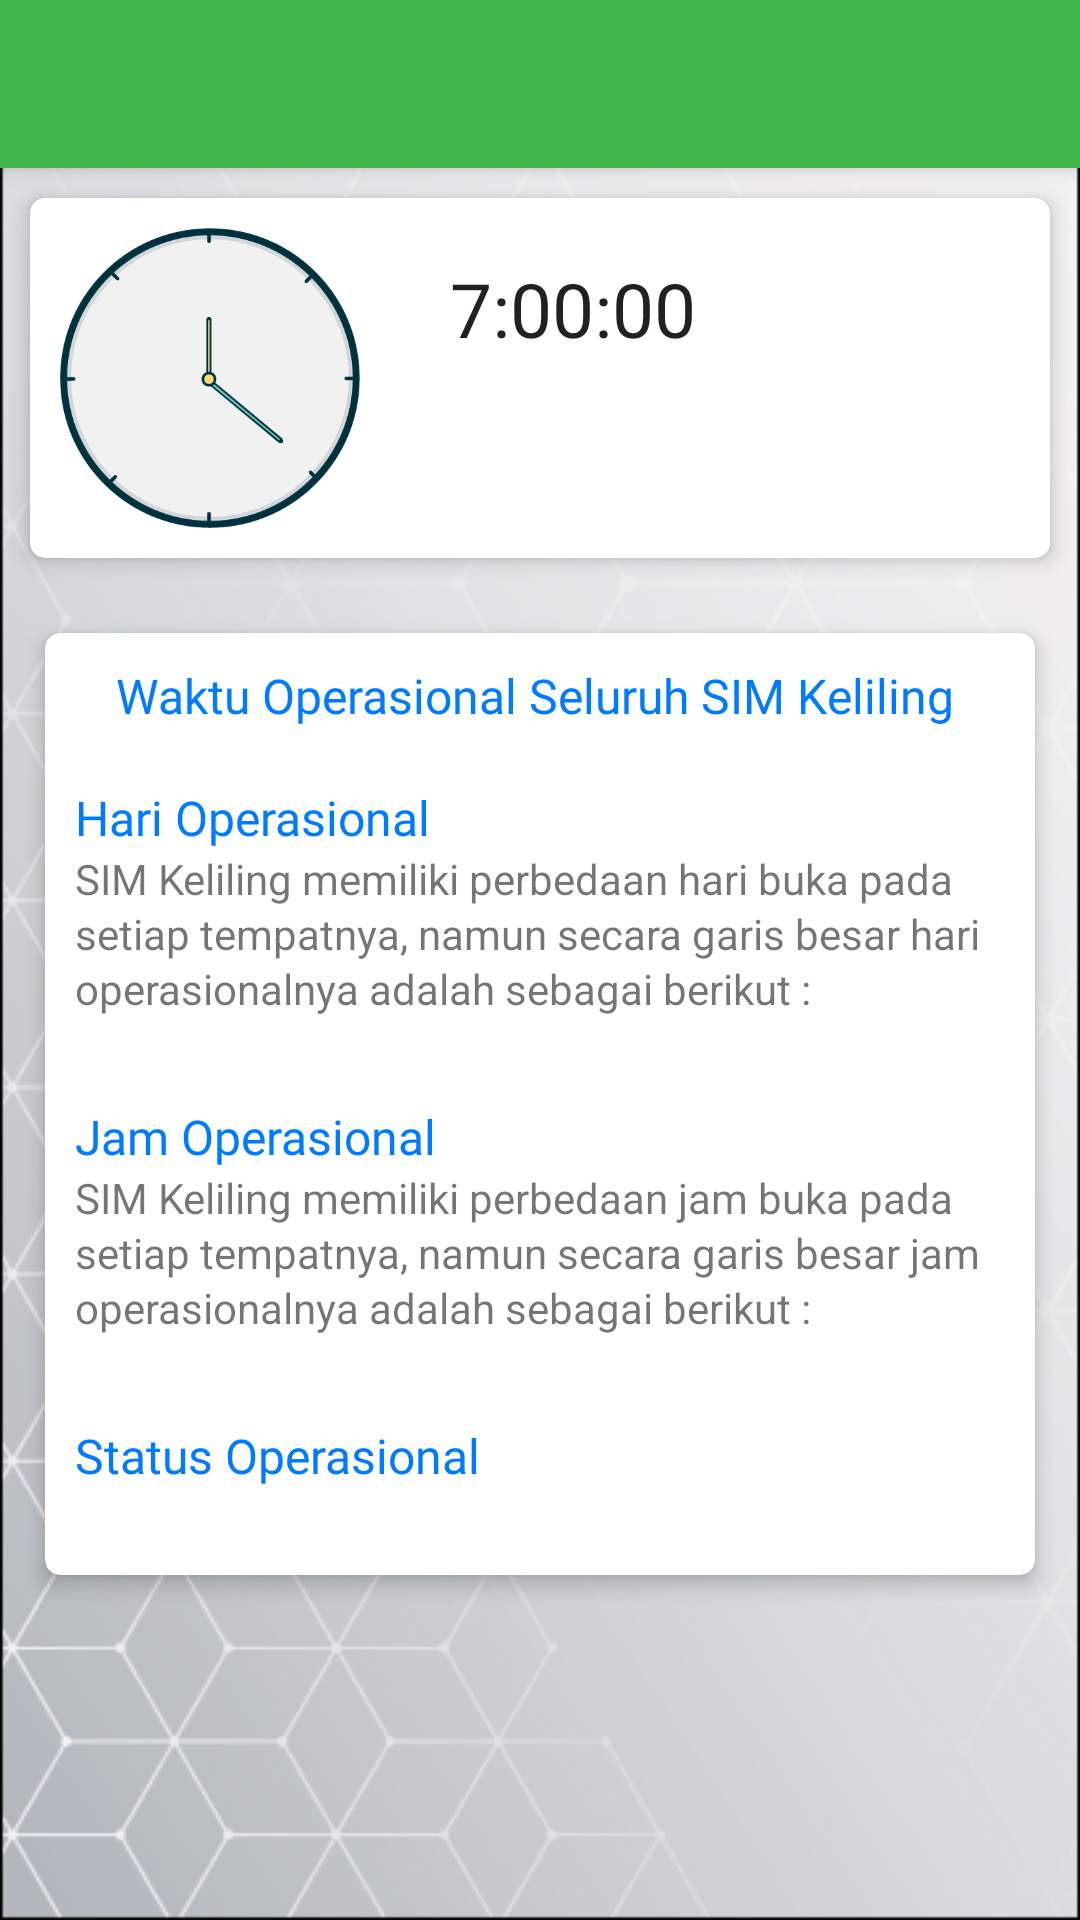

Screen size 1080w x 1920h. Icon name, then its center in pixels as (x=x, y=y):
jambaru: (x=210, y=378)
